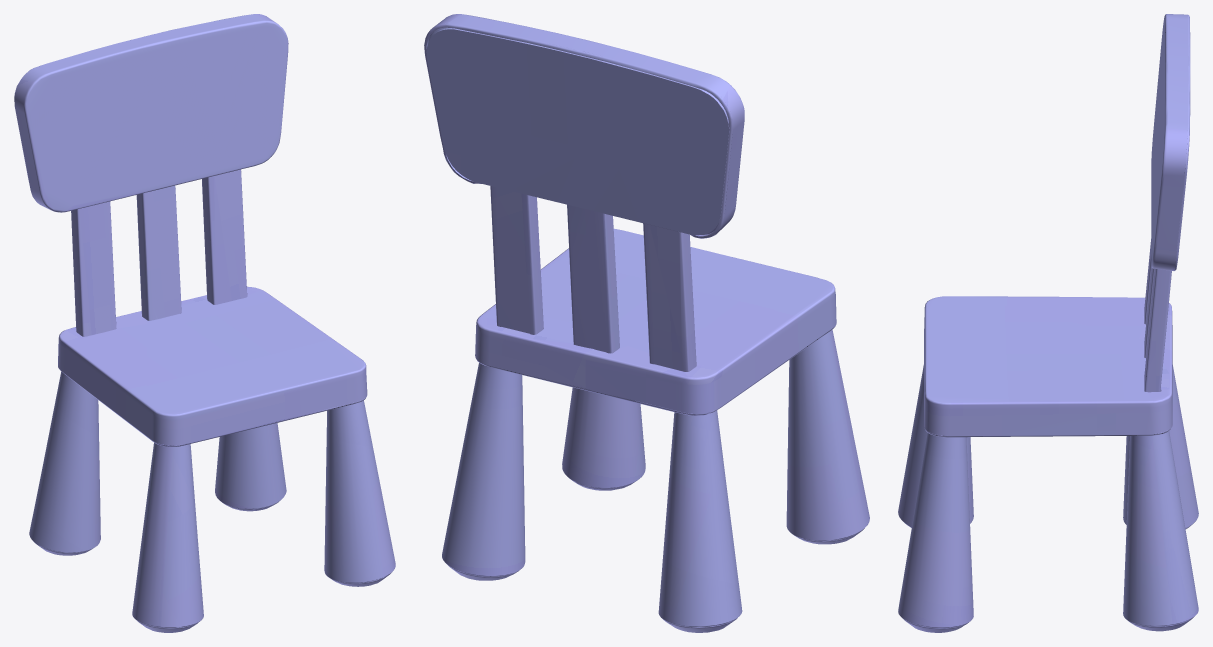
Rendered from 12 - MAMMUT - 兒童椅, 室內戶外用紫色 IKEA 線上購物.glb.
3 views of the same model, side by side, from view 1: azimuth 30°, elevation 25°; view 2: azimuth 150°, elevation 25°; view 3: azimuth 270°, elevation 25° (orthographic). The views are drawn at different scales.
Visible parts, largest first — view 1: ASY_ART_90581990_S01_NV01; view 2: ASY_ART_90581990_S01_NV01; view 3: ASY_ART_90581990_S01_NV01.
Part boxes in pixels (x1,y1,x2,y2): ASY_ART_90581990_S01_NV01: (14,14,395,632); ASY_ART_90581990_S01_NV01: (424,14,869,632); ASY_ART_90581990_S01_NV01: (898,14,1198,632).
Bounding box in the file's own units: 0.3885 × 0.6694 × 0.3615.
Materials: 1 (1 with a texture image).
